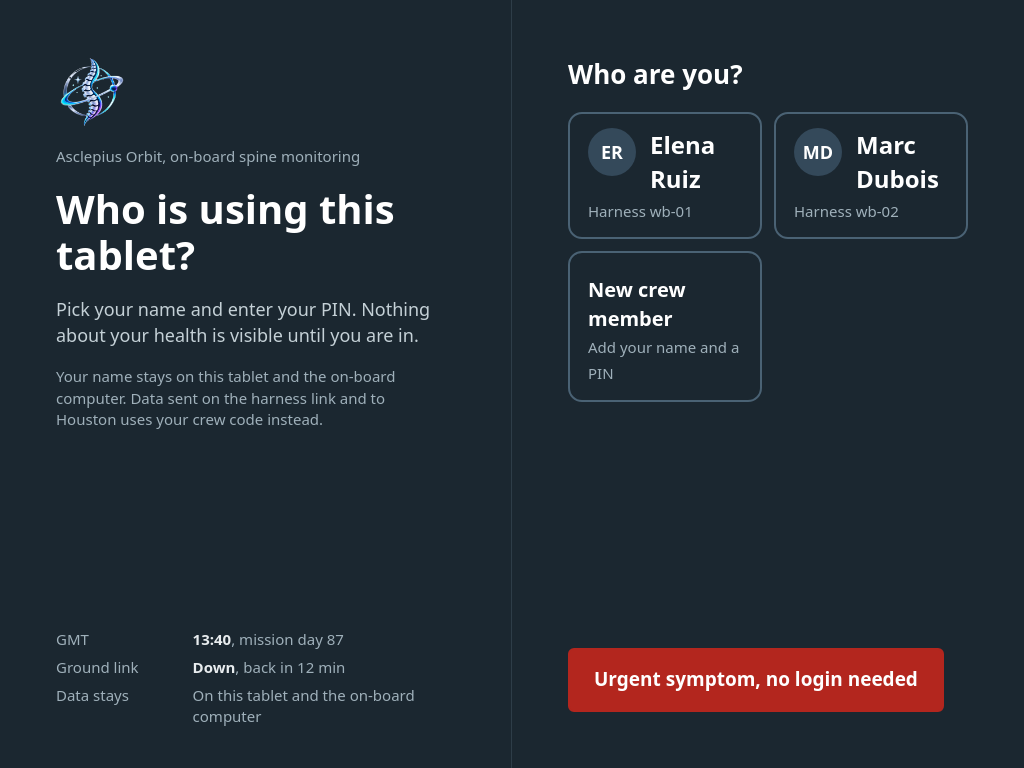
Test: LoginView › maps unavailable to a generic message
Click the button "ER Elena Ruiz Harness wb-01".
click(665, 176)  # box x1=568 y1=112 x2=762 y2=239
(page scrolled)
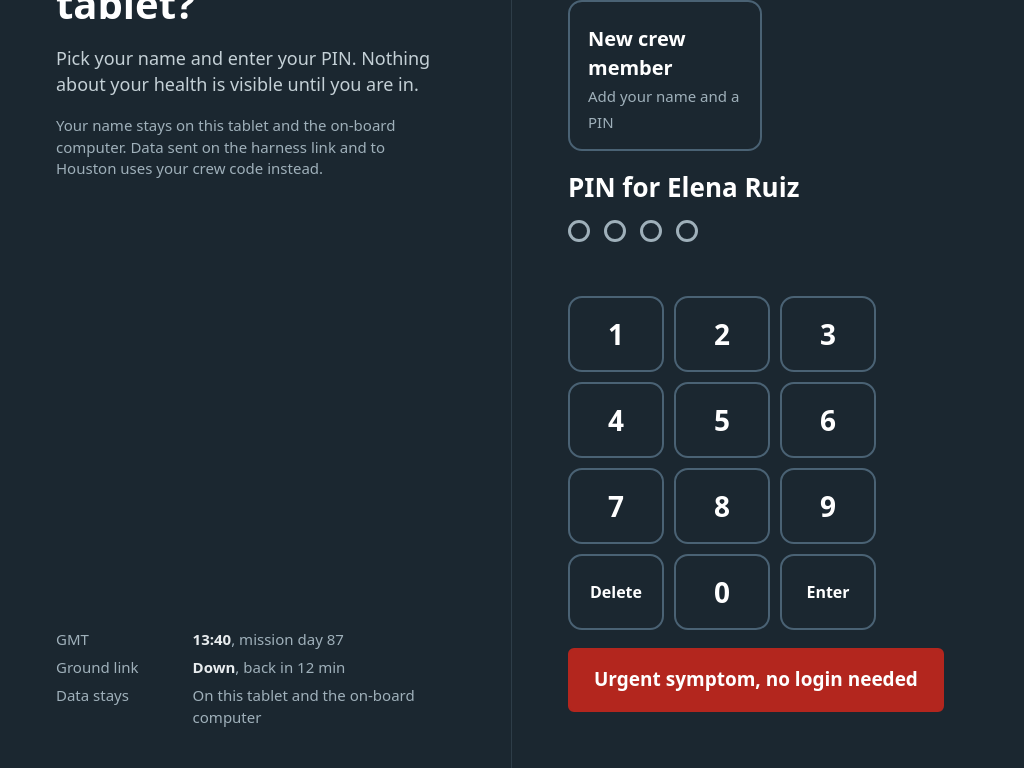
Click the button "0".
click(722, 592)  # box x1=674 y1=554 x2=770 y2=630
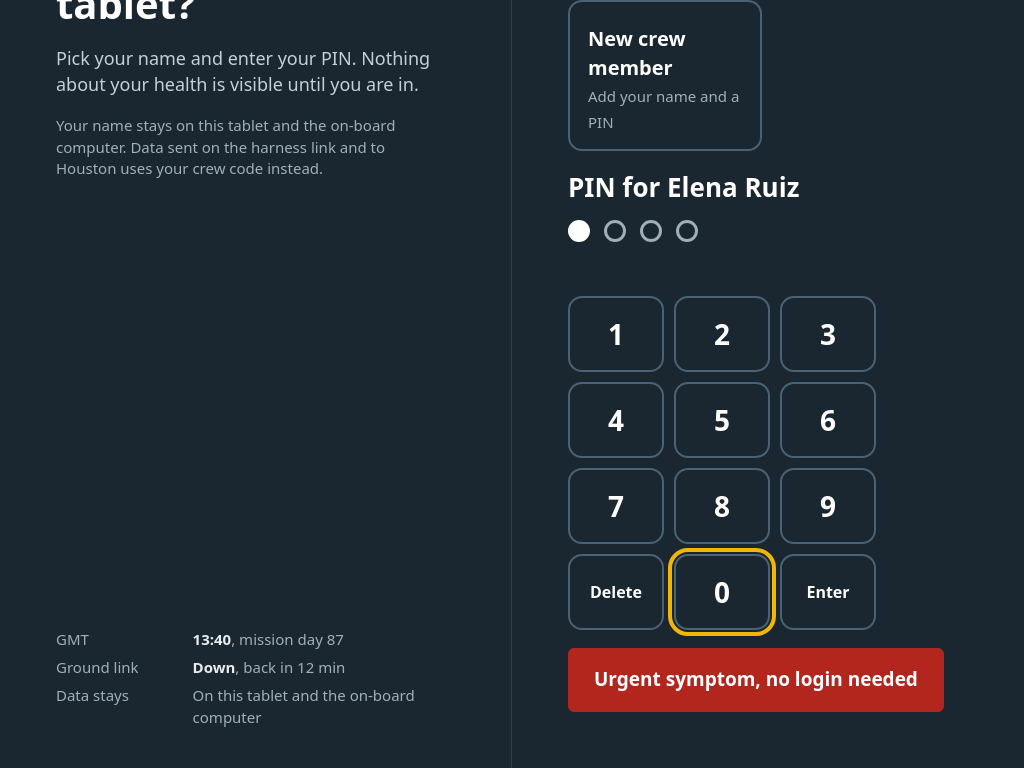
Click the button "0".
click(722, 592)  # box x1=674 y1=554 x2=770 y2=630
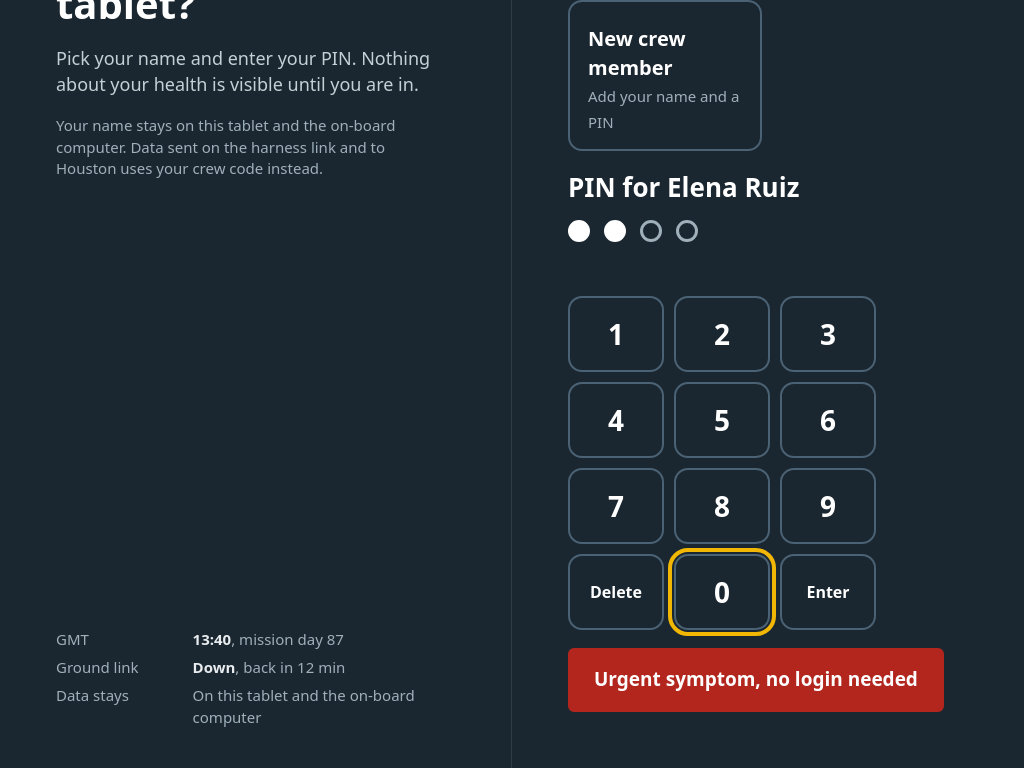
Click the button "0".
click(722, 592)  # box x1=674 y1=554 x2=770 y2=630
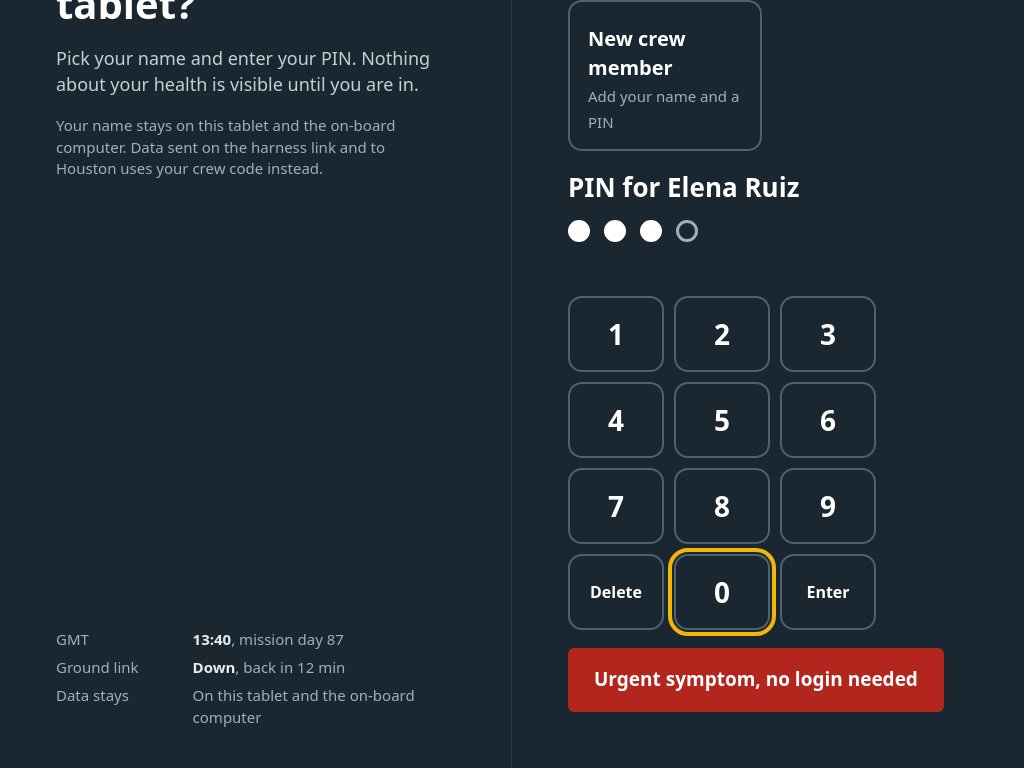
Click the button "0".
click(722, 592)  # box x1=674 y1=554 x2=770 y2=630
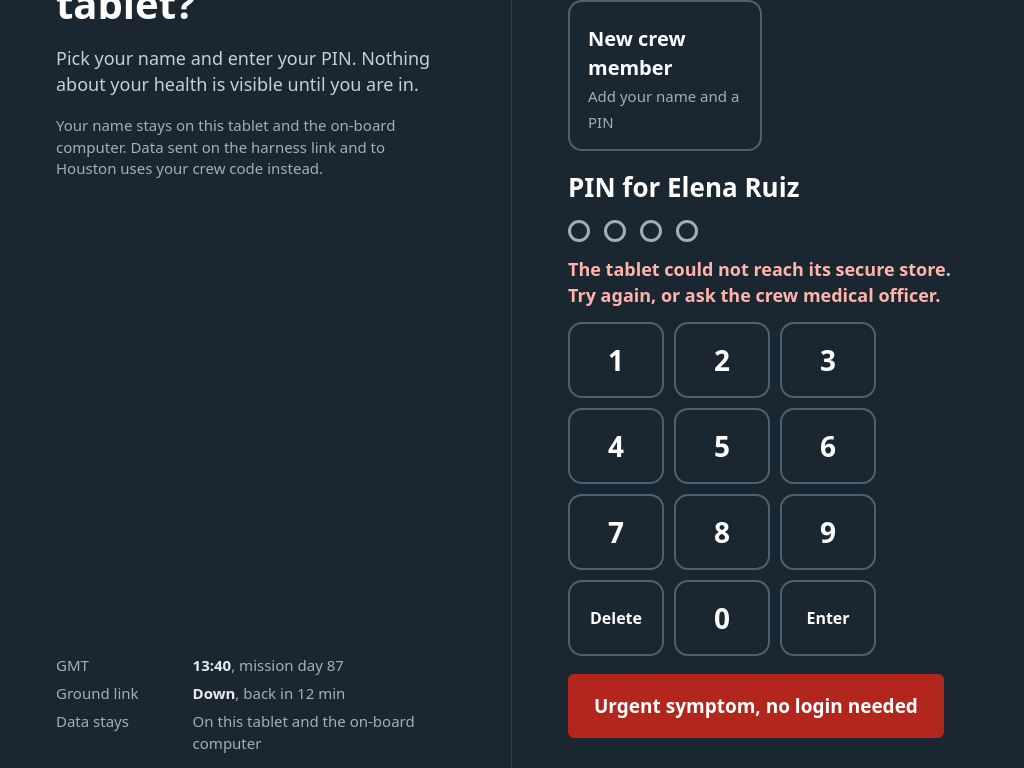
Now the text "The tablet could not reach its secure store. Try again, or ask the crew medical officer." is shown, box x1=568 y1=257 x2=951 y2=307
